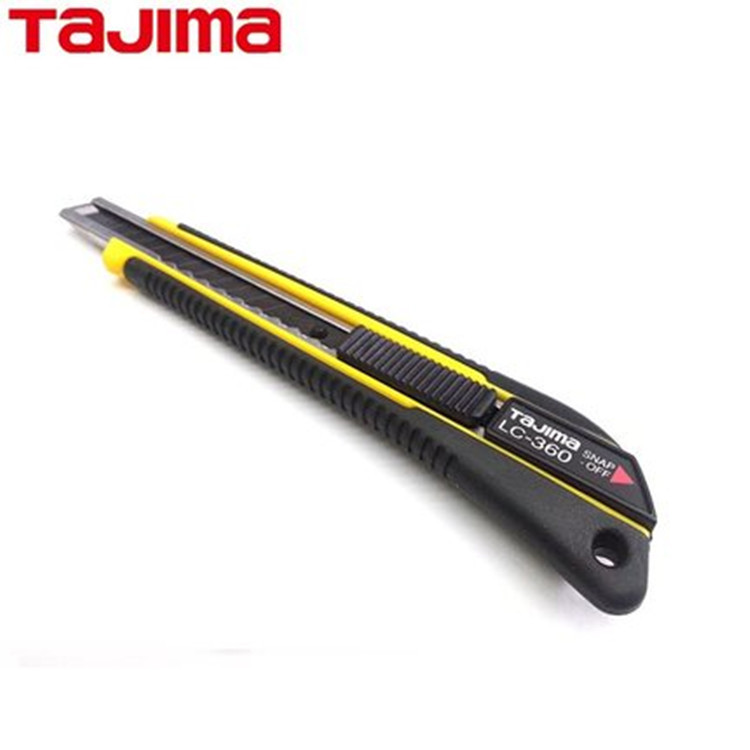cutter: (54, 196, 659, 617)
